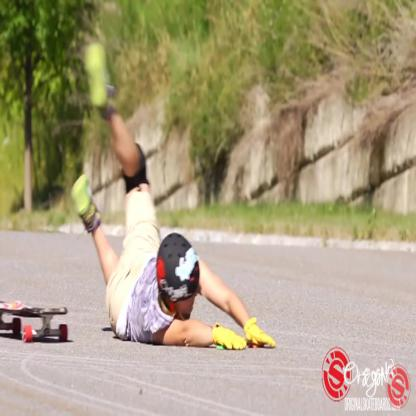Fall_Down: (67, 39, 279, 356)
